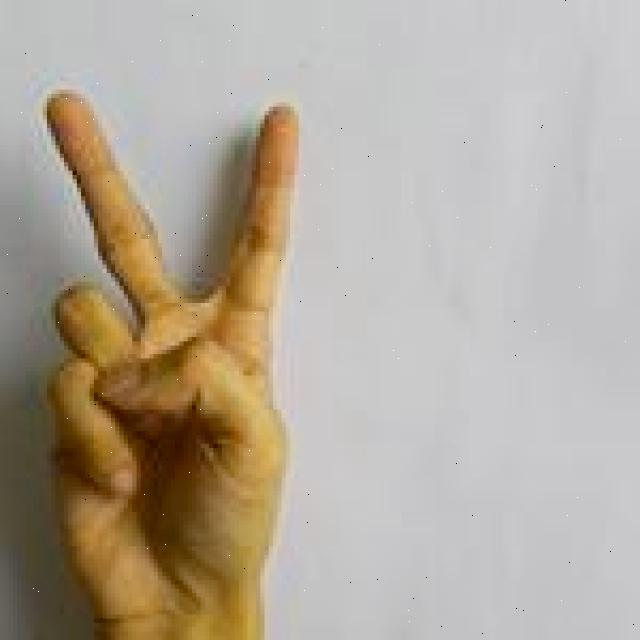V: (31, 82, 303, 640)
